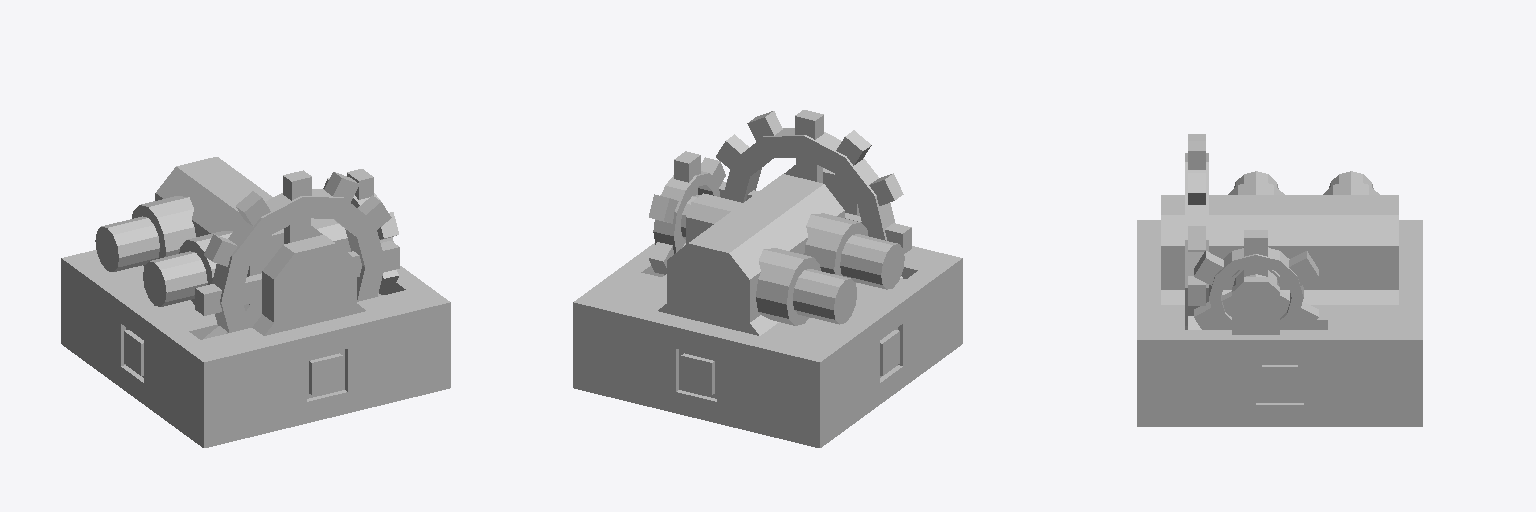
File: stirling.obj
3 views of the same model, side by side, from view 1: azimuth 30°, elevation 25°; view 2: azimuth 150°, elevation 25°; view 3: azimuth 270°, elevation 25° (orthographic).
Parts seen in each view (by area): view 1: Base, Cog, Piston, CogSmall; view 2: Base, Cog, Piston, CogSmall; view 3: Base, CogSmall, Cog, Piston.
Part boxes in pixels (left/top/right/bottom): Base: left=61, top=157, right=450, bottom=447; Cog: left=195, top=170, right=399, bottom=338; Piston: left=95, top=216, right=207, bottom=306; CogSmall: left=323, top=169, right=398, bottom=292; Base: left=573, top=165, right=962, bottom=447; Cog: left=716, top=110, right=911, bottom=277; Piston: left=793, top=234, right=904, bottom=324; CogSmall: left=649, top=151, right=725, bottom=274; Base: left=1137, top=181, right=1422, bottom=426; CogSmall: left=1194, top=230, right=1318, bottom=329; Cog: left=1185, top=134, right=1208, bottom=329; Piston: left=1234, top=171, right=1373, bottom=188.
Size of the model in its own units: 3 by 2.56 by 3.